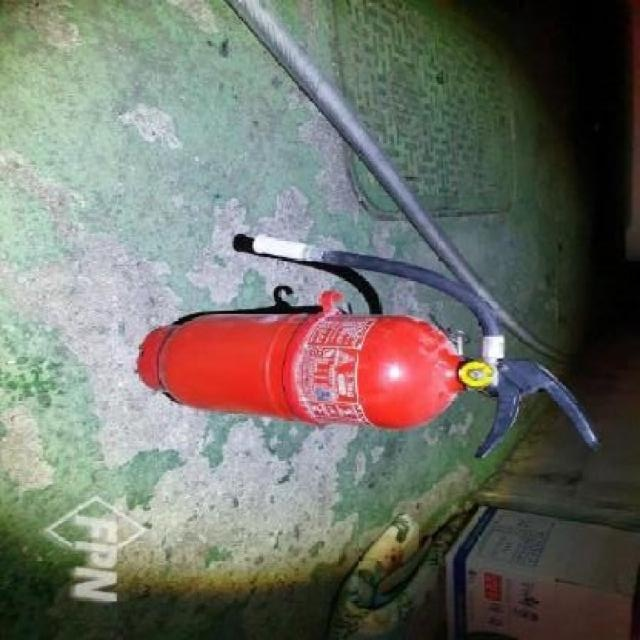fire extinguisher: (137, 234, 605, 460)
